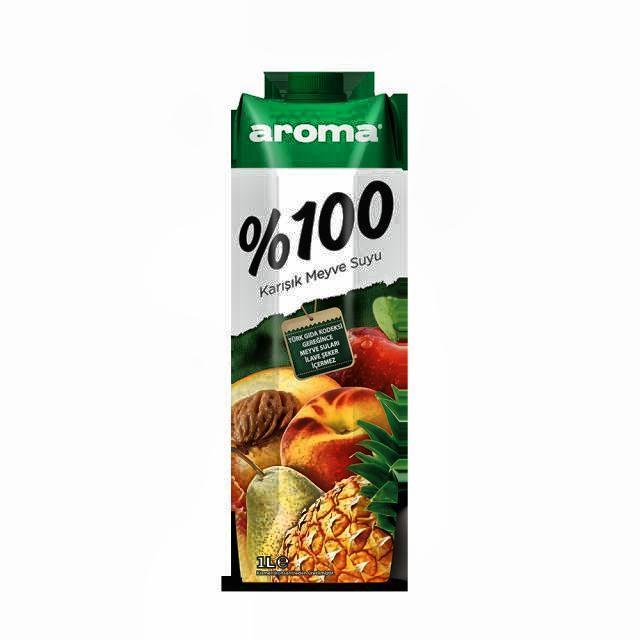cardboard: (221, 71, 408, 593)
